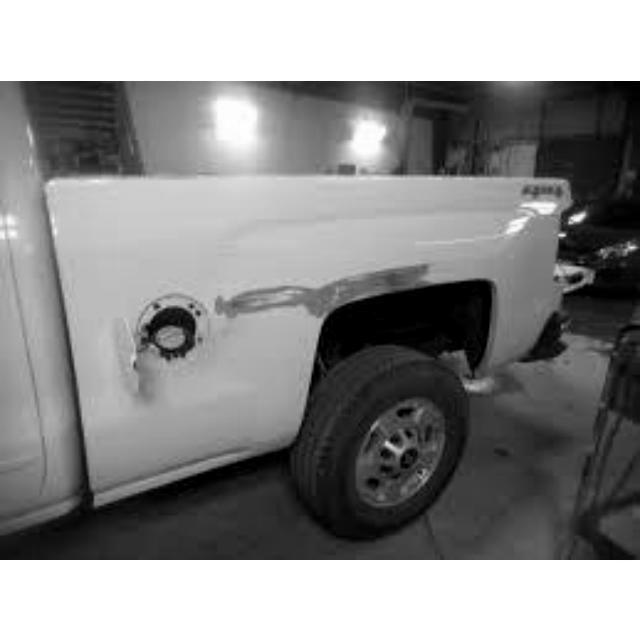quaterpanel-dent: (186, 214, 465, 342)
